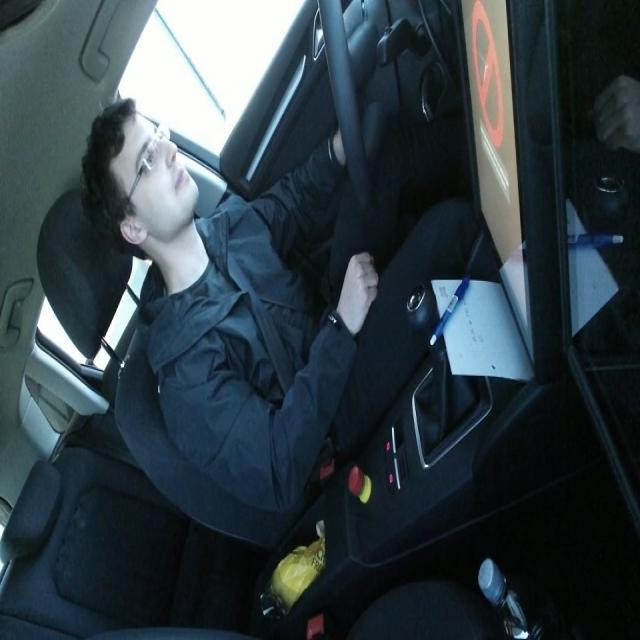pen: (428, 268, 473, 349)
